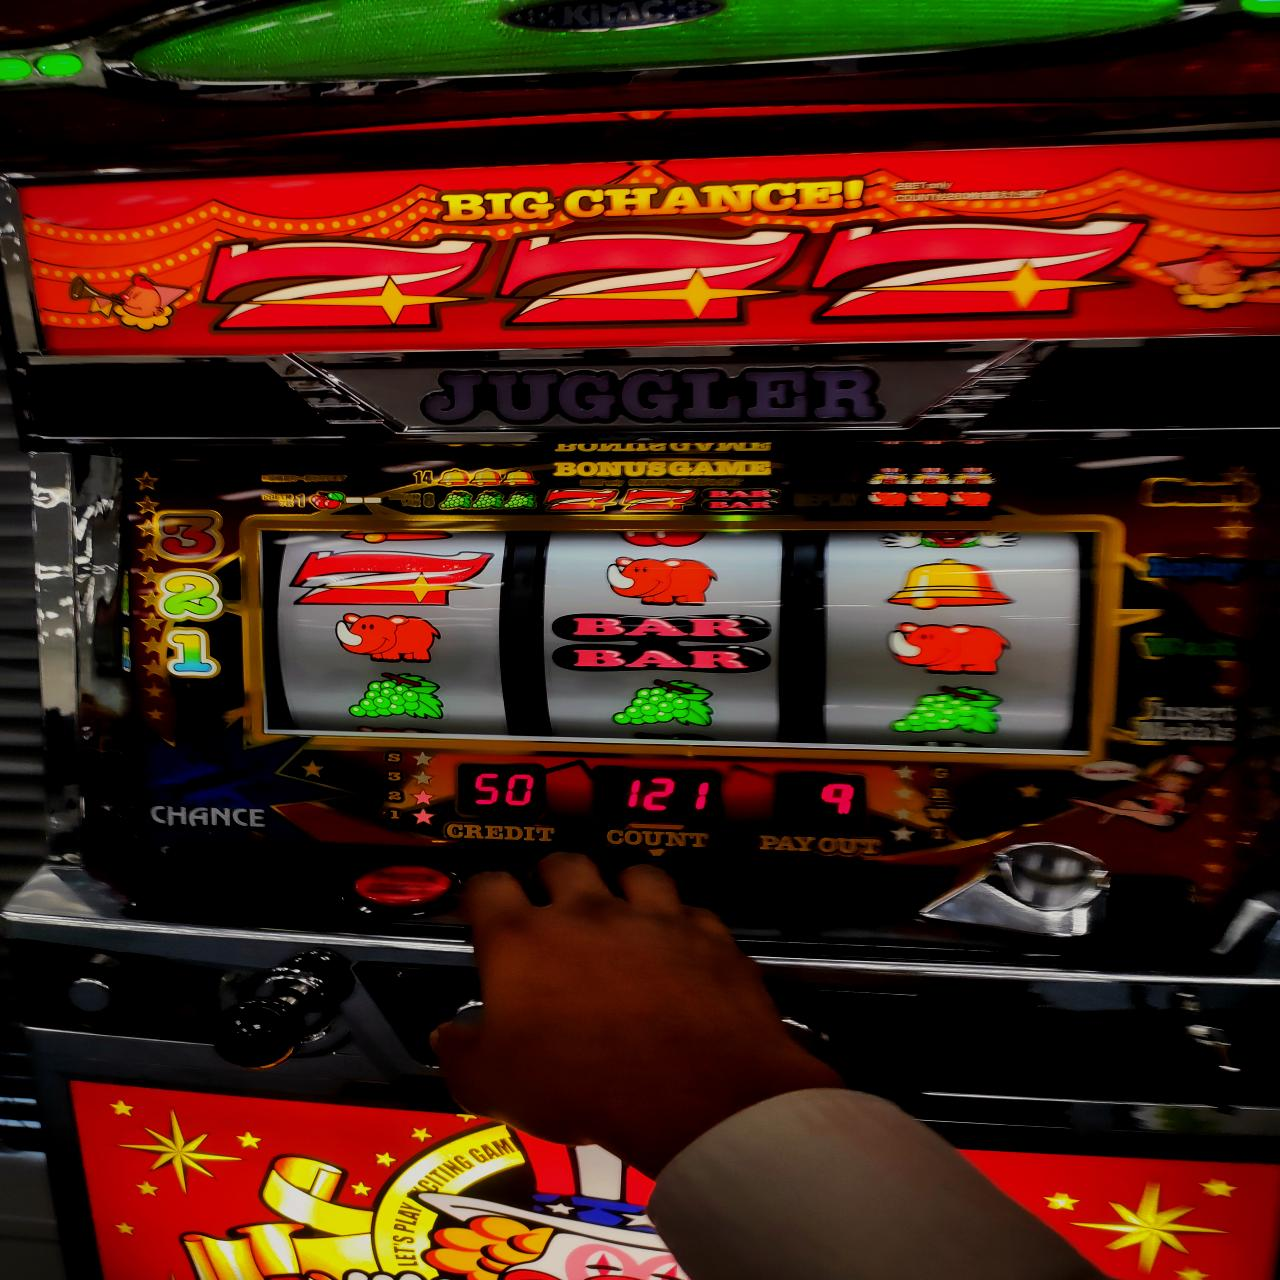7: (285, 551, 493, 606)
8: (887, 619, 1013, 673), (333, 610, 441, 663), (606, 561, 724, 604)
Display: (260, 525, 1115, 753)
bar: (544, 611, 774, 673)
bell: (891, 558, 1015, 611)
grape: (894, 687, 1003, 735), (611, 679, 719, 727), (346, 673, 445, 719)
